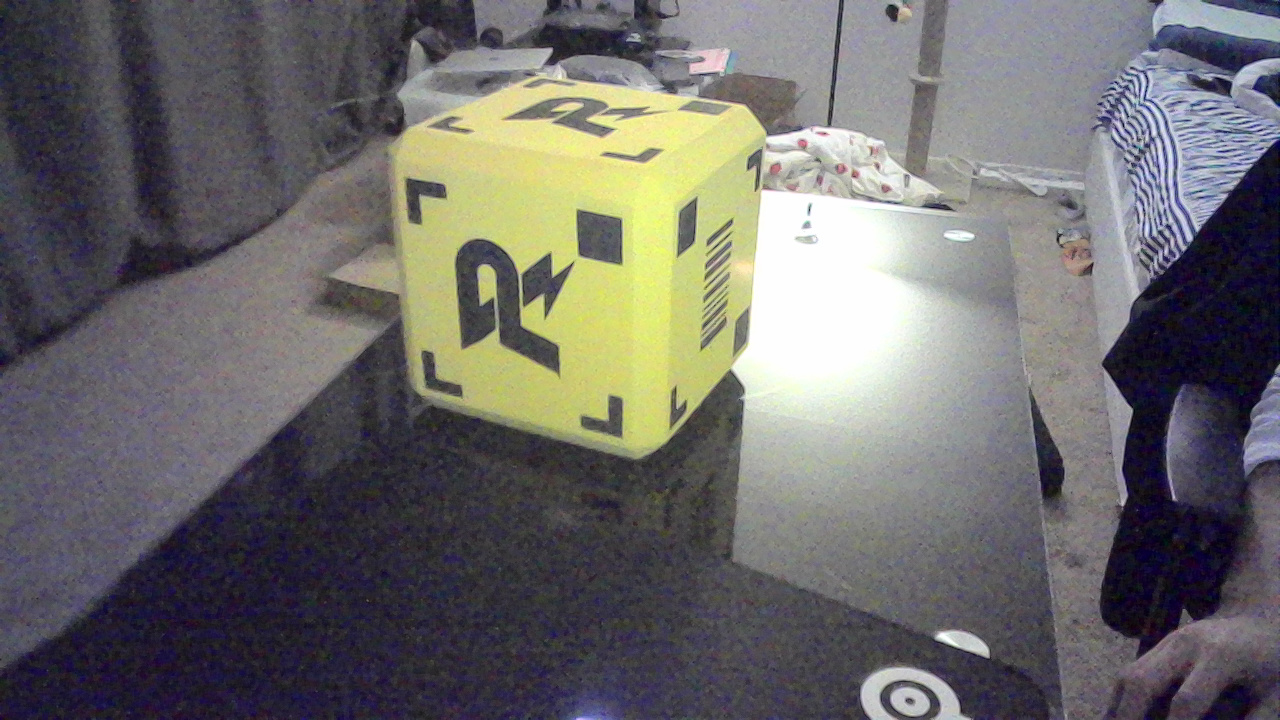Barcode: (701, 235, 750, 365)
R: (462, 242, 576, 375), (528, 99, 664, 151)
